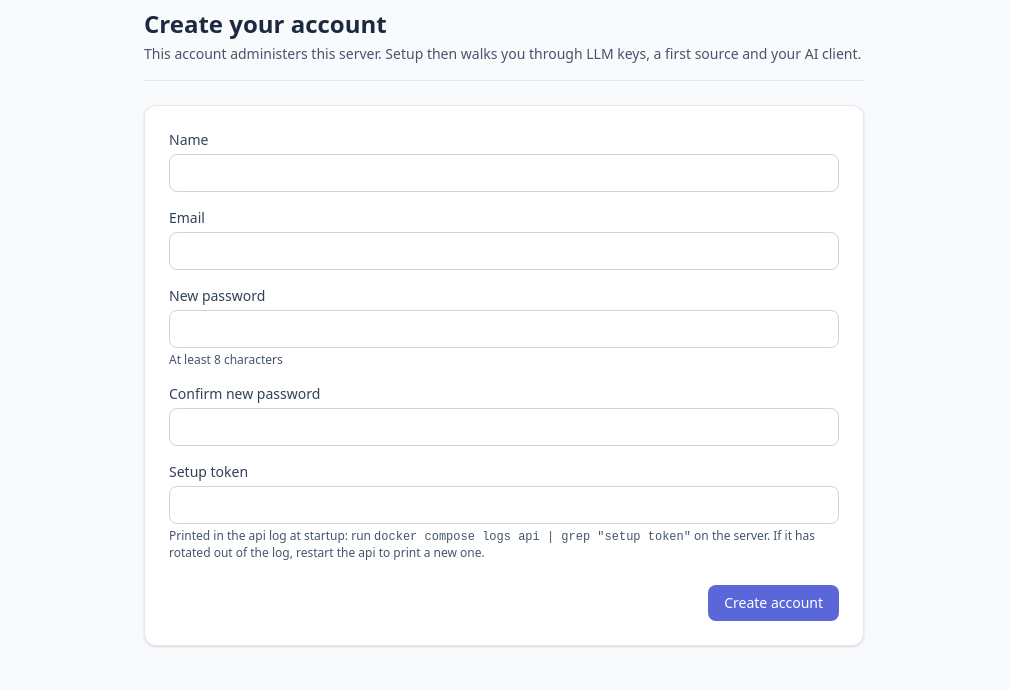
it: SetupWizard › creates the first account with the setup token, signs in, and moves on to keys
In the field labelled "Name": point(504, 173) [169, 154, 839, 192], type "Ada"
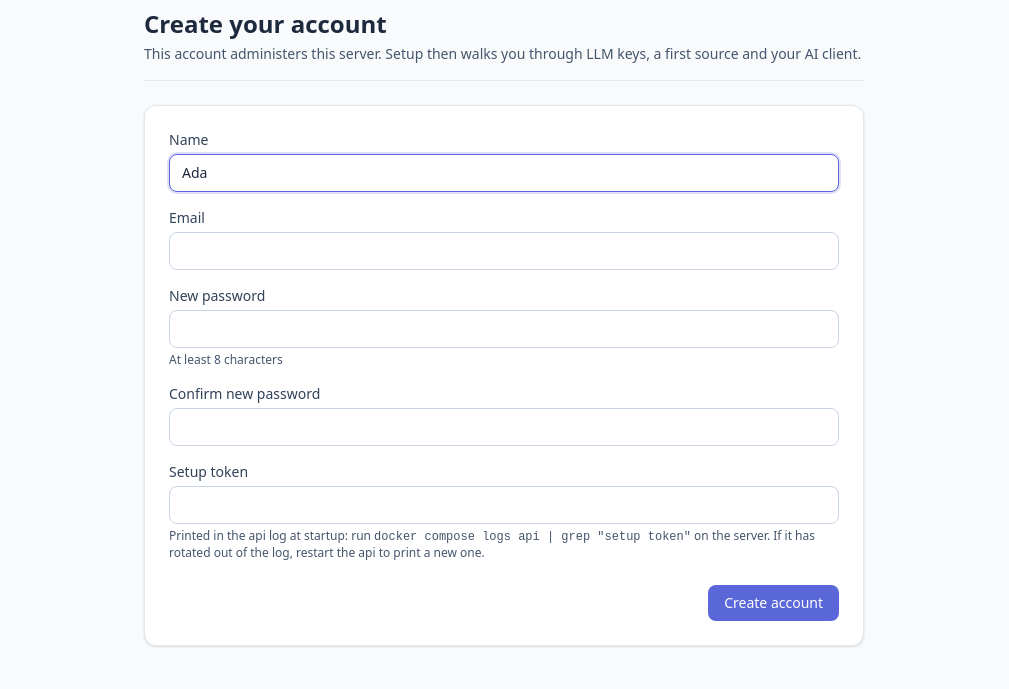
In the field labelled "Email": point(504, 251) [169, 232, 839, 270], type "ada@example.com"
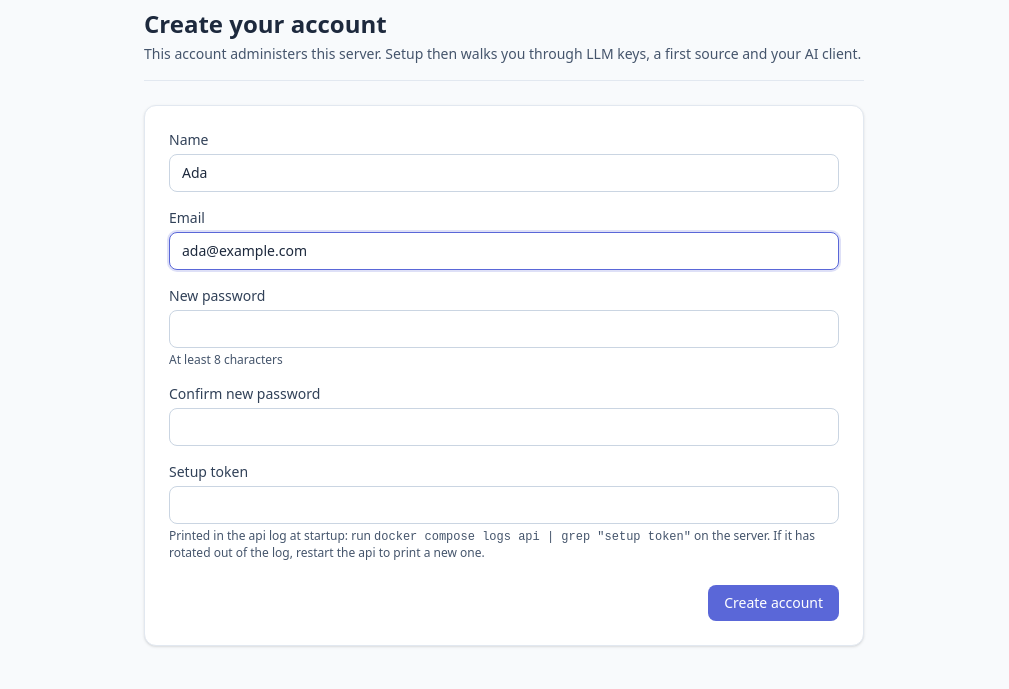
In the password field labelled "New password": point(504, 329) [169, 310, 839, 348], type "longenough1"
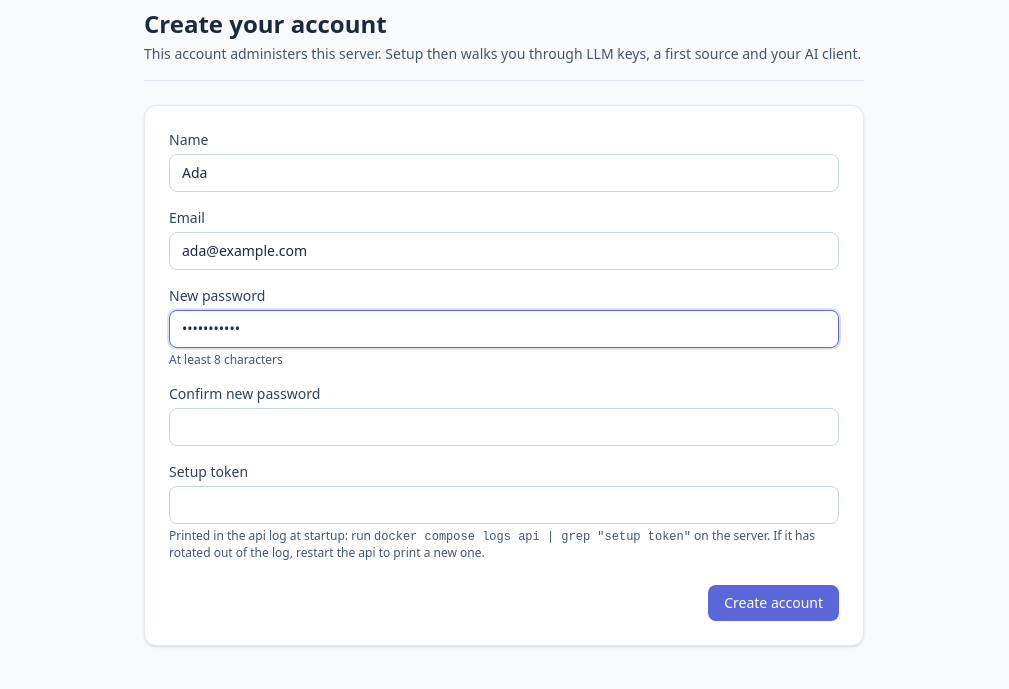
In the password field labelled "Confirm new password": point(504, 427) [169, 408, 839, 446], type "longenough1"
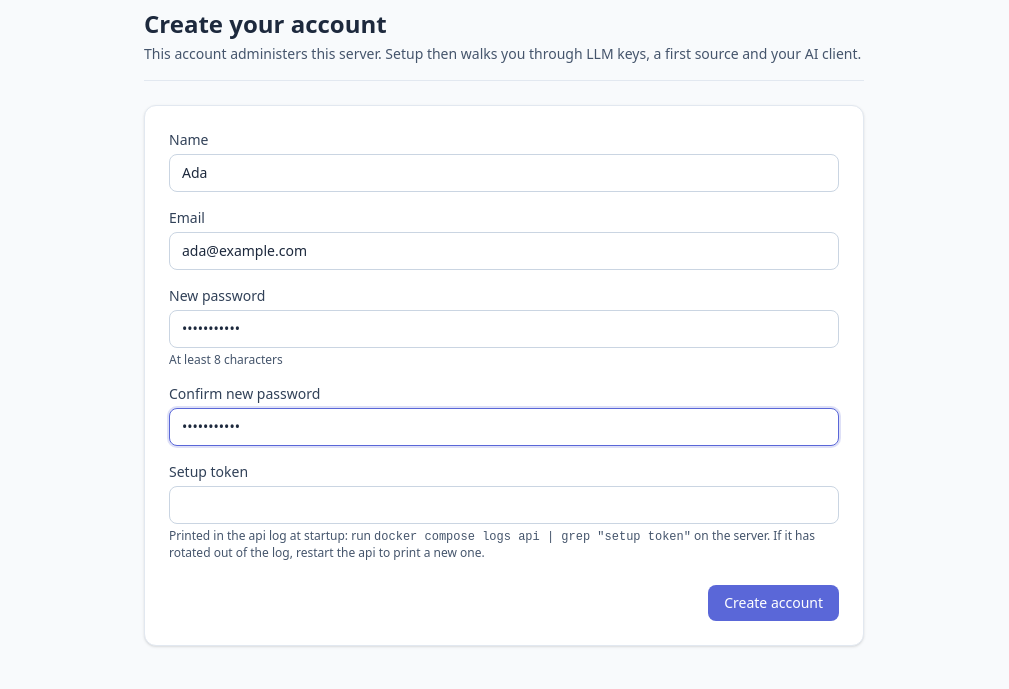
In the field labelled "Setup token": point(504, 505) [169, 486, 839, 524], type "tok"
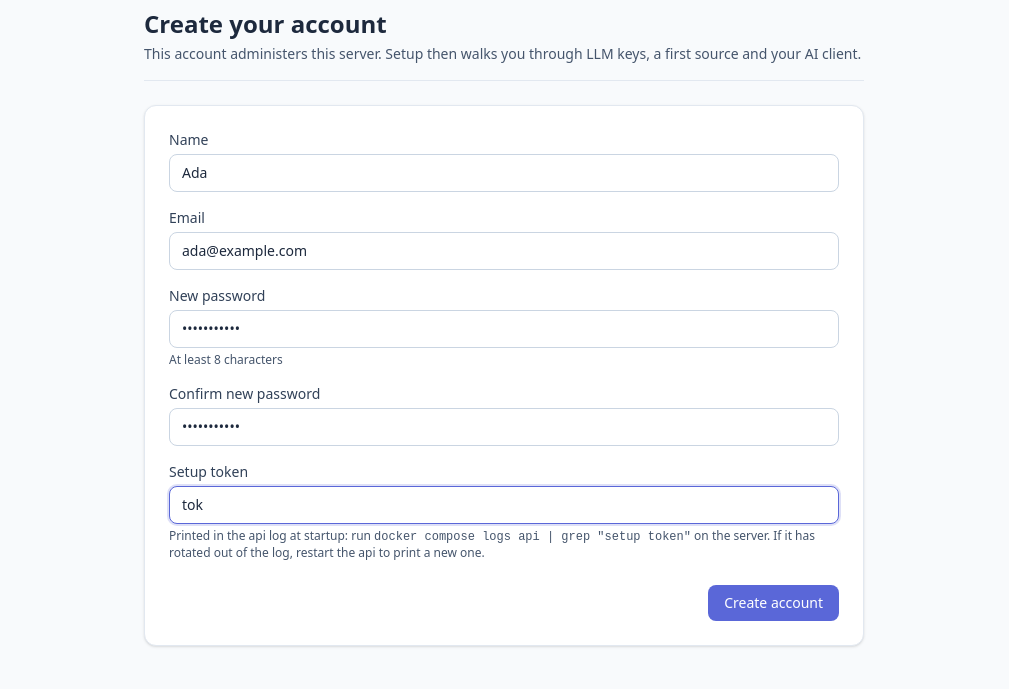
Click the button "Create account": point(774, 603) [708, 585, 839, 621]
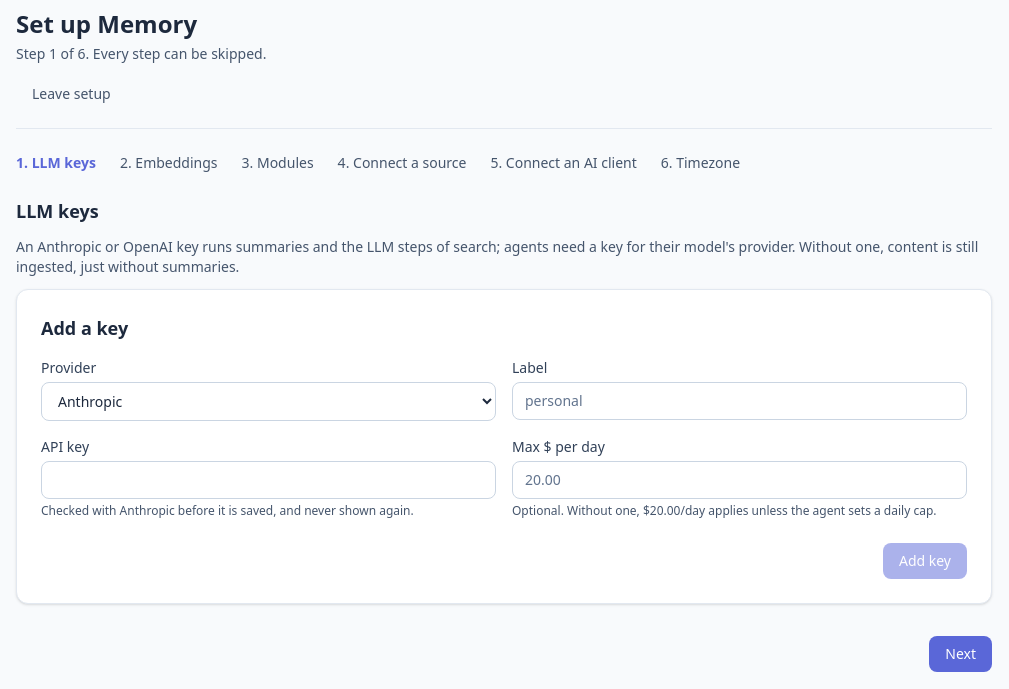
Now the heading "LLM keys" is shown, box [16, 197, 99, 225]
